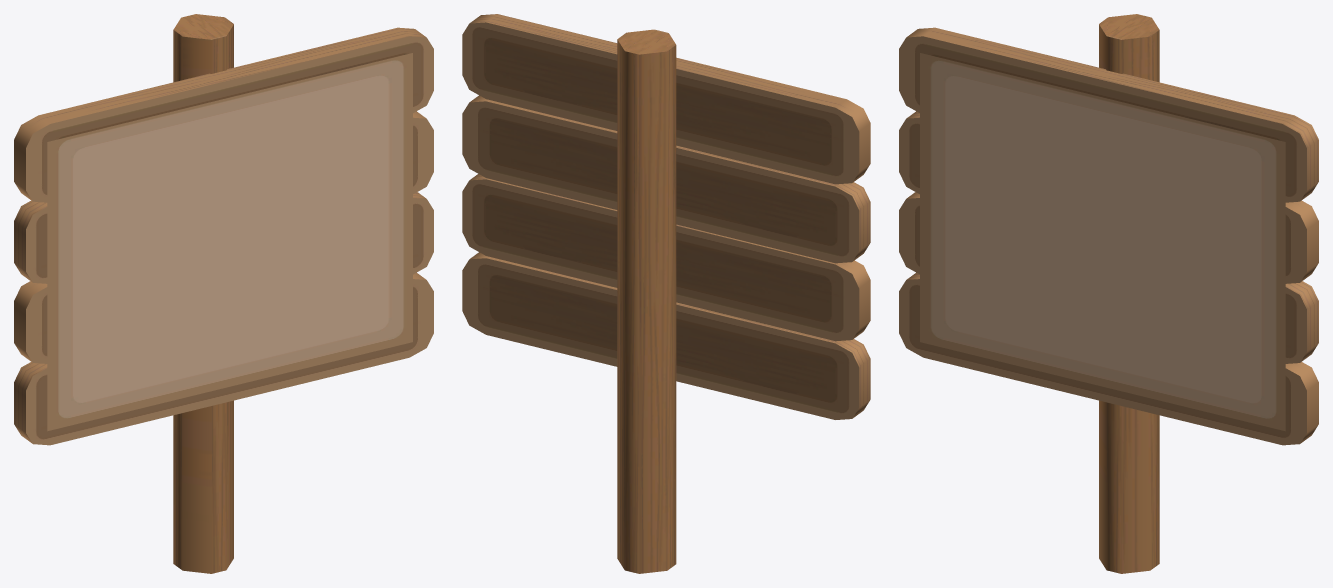
Rendered from WoodenWritingSignHand.fbx.
3 renders of one model, left to right at view 1: azimuth 30°, elevation 25°; view 2: azimuth 150°, elevation 25°; view 3: azimuth 330°, elevation 25°, orthographic. The views are drawn at different scales.
Parts seen in each view (by area): view 1: crate; view 2: crate; view 3: crate.
Boxes of the visible parts, <box> form: crate: <box>14,14,433,573</box>; crate: <box>462,14,870,573</box>; crate: <box>899,14,1318,573</box>.
Bounding box in the file's own units: 0.8691 × 1.09 × 0.1536.
